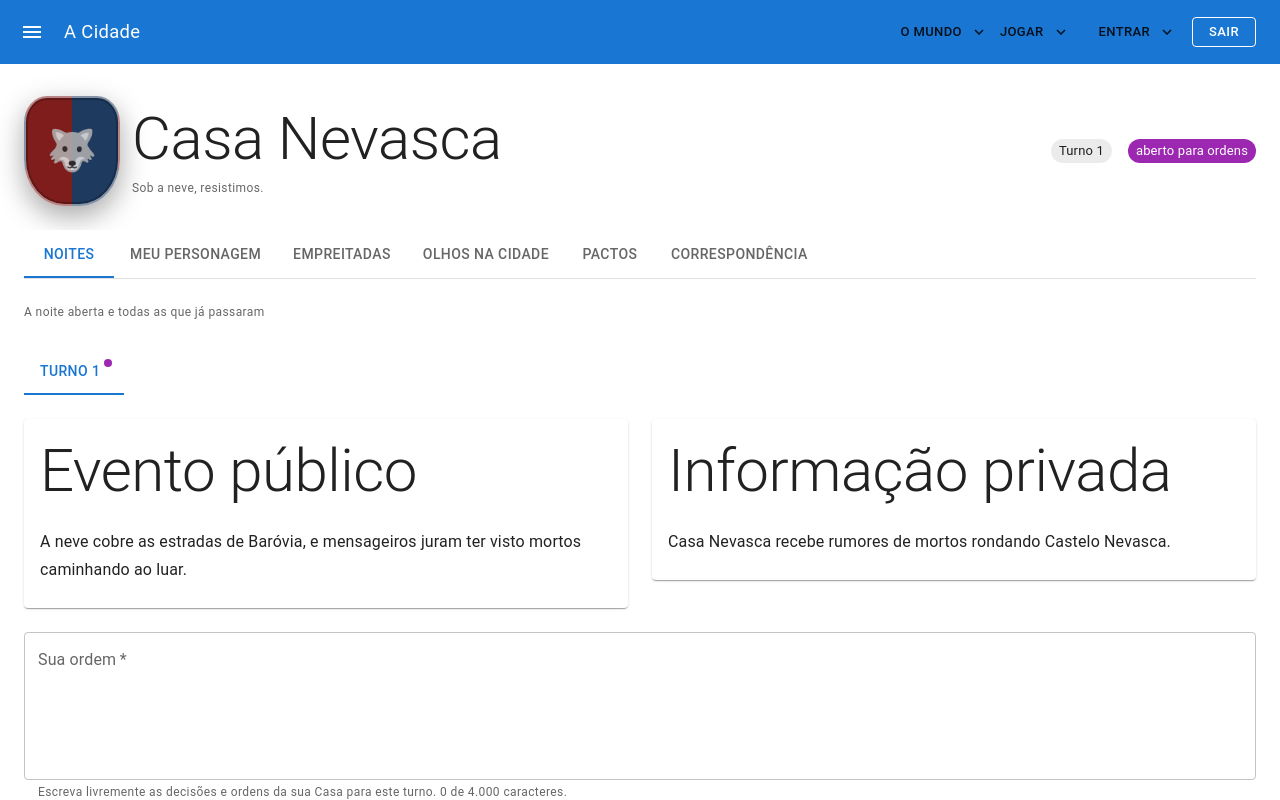
Test: GamePage › agrupa ativo repetido num chip só, com a contagem
Click the tab "Meu personagem" at (196, 254), box [114,230,277,278]
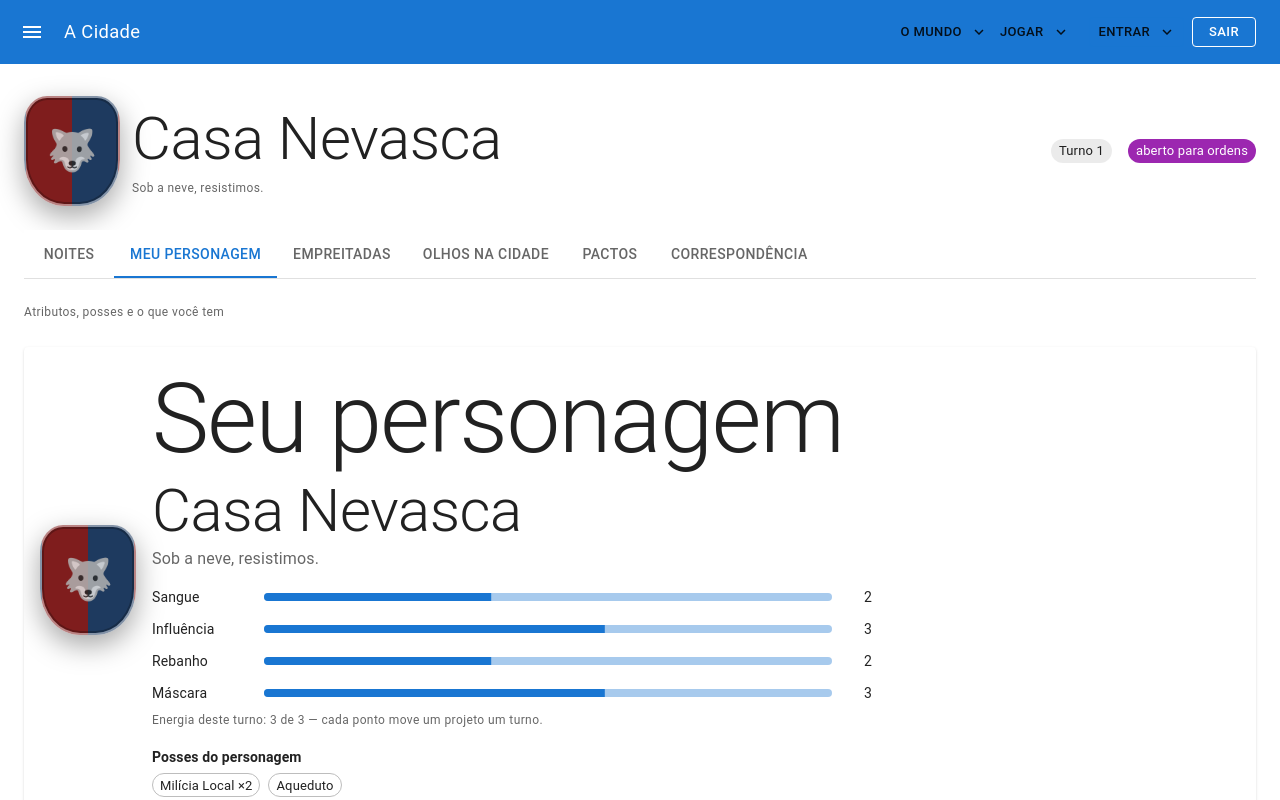
Now the text "Milícia Local ×2" is shown, box [153,776,260,795]
Now the text "Aqueduto" is shown, box [276,778,334,792]
